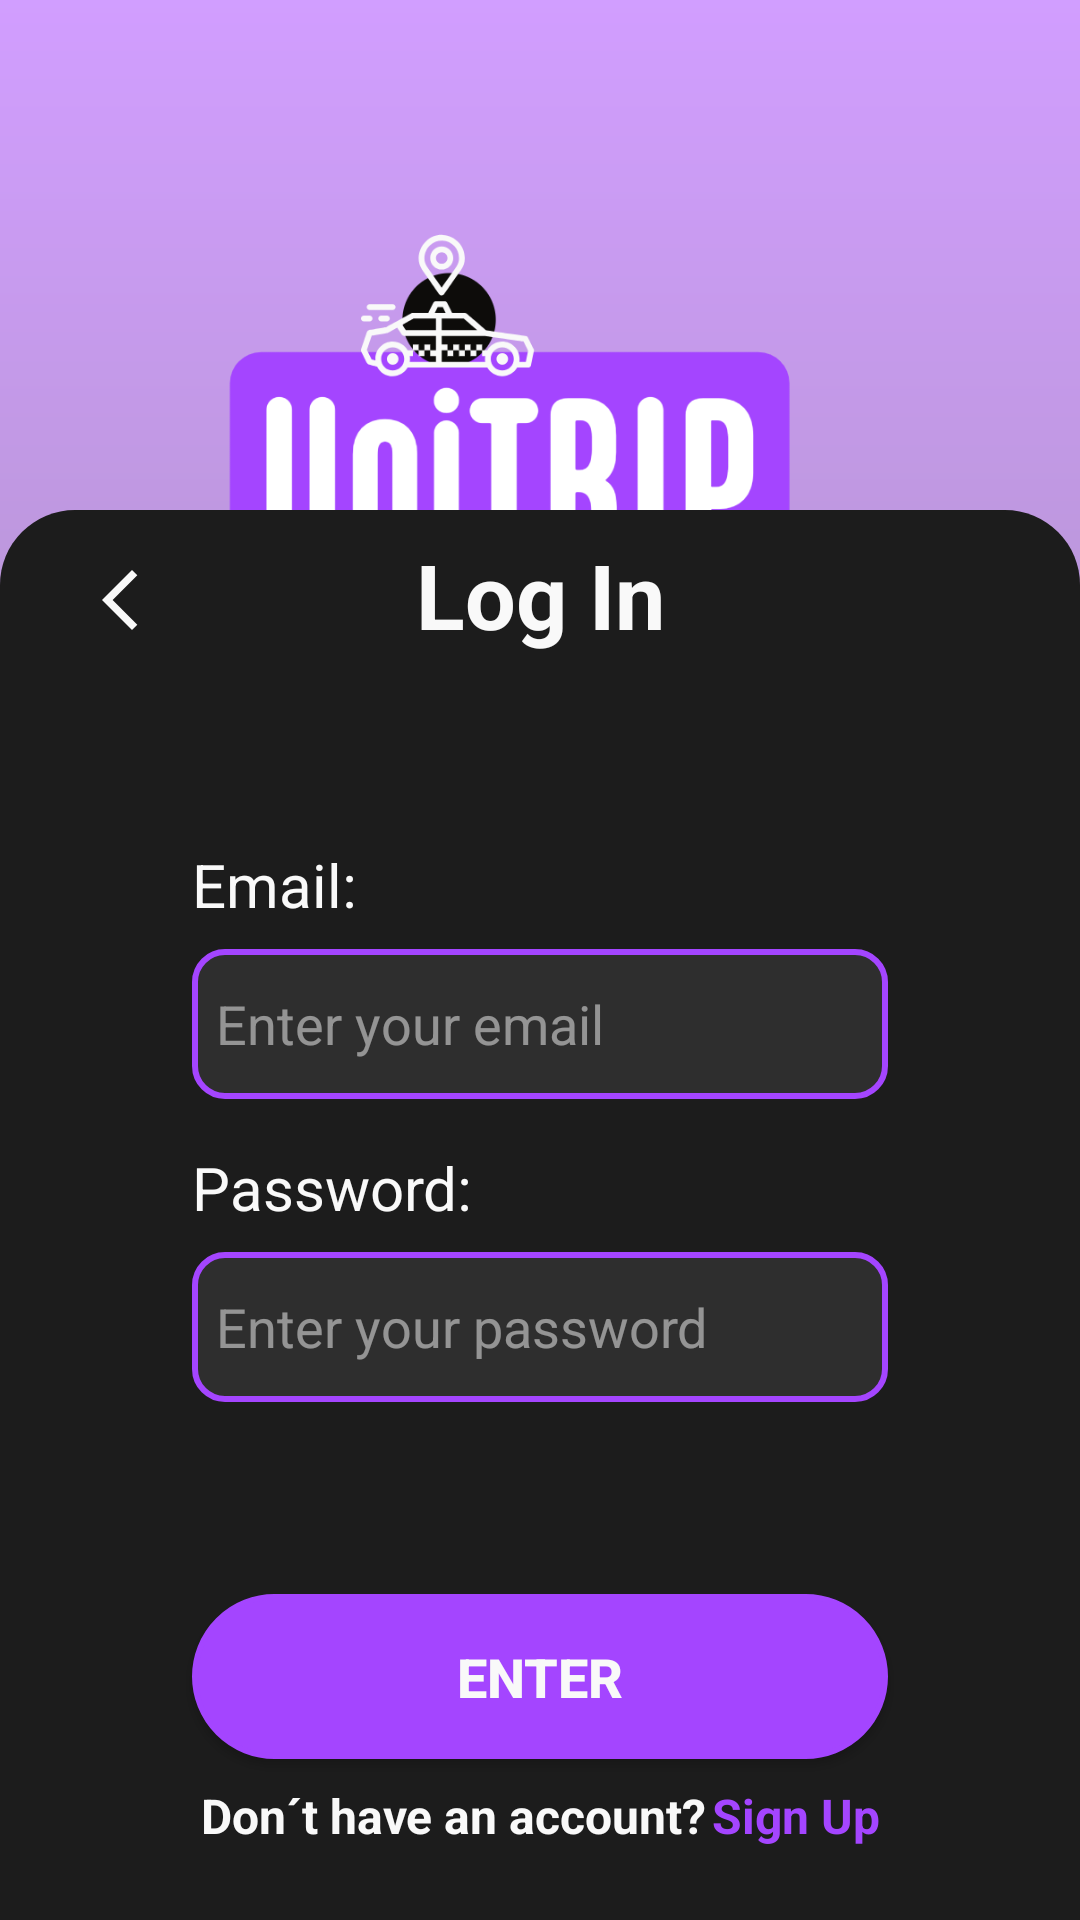

Icons on this 1080×1920 Android screen, each with the point to tap as point (x, y):
Button Back: point (119, 600)
